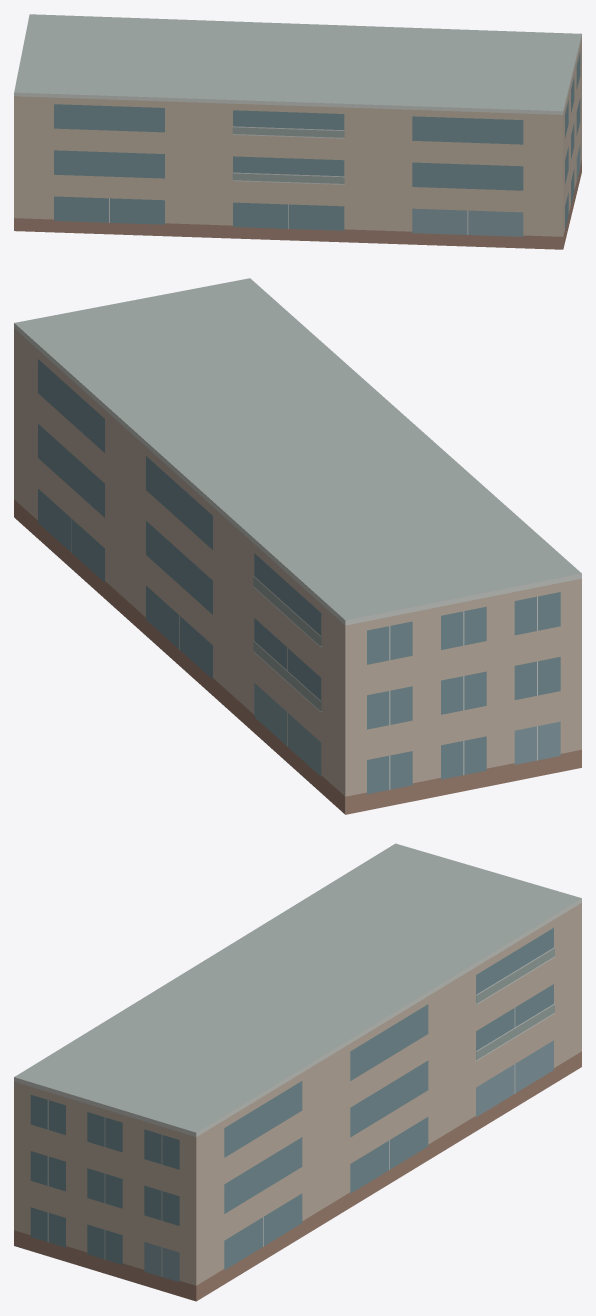
The model's file is survey-upis-32855715.glb.
3 renders of one model, top to bottom at view 1: azimuth 30°, elevation 25°; view 2: azimuth 150°, elevation 25°; view 3: azimuth 270°, elevation 25°, orthographic. The views are drawn at different scales.
Visible parts, largest first — view 1: survey-upis-32855715.tmp; view 2: survey-upis-32855715.tmp; view 3: survey-upis-32855715.tmp.
Boxes of the visible parts, left/top/right/bottom form: survey-upis-32855715.tmp: left=14, top=14, right=581, bottom=249; survey-upis-32855715.tmp: left=14, top=278, right=581, bottom=814; survey-upis-32855715.tmp: left=14, top=843, right=581, bottom=1301.
Size of the model in its own units: 33.63 by 9.15 by 27.9.
